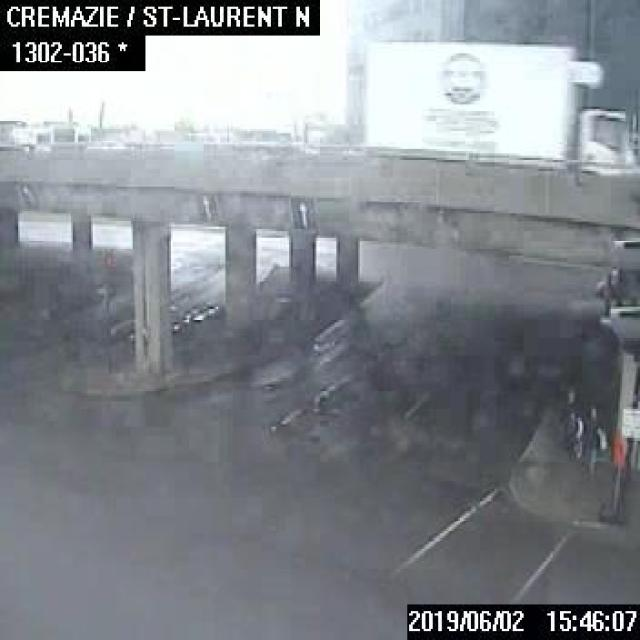construction: (598, 437, 625, 522)
pedestrian: (584, 392, 606, 477), (562, 400, 584, 461)
vehicle: (360, 34, 638, 180), (620, 169, 638, 178)
